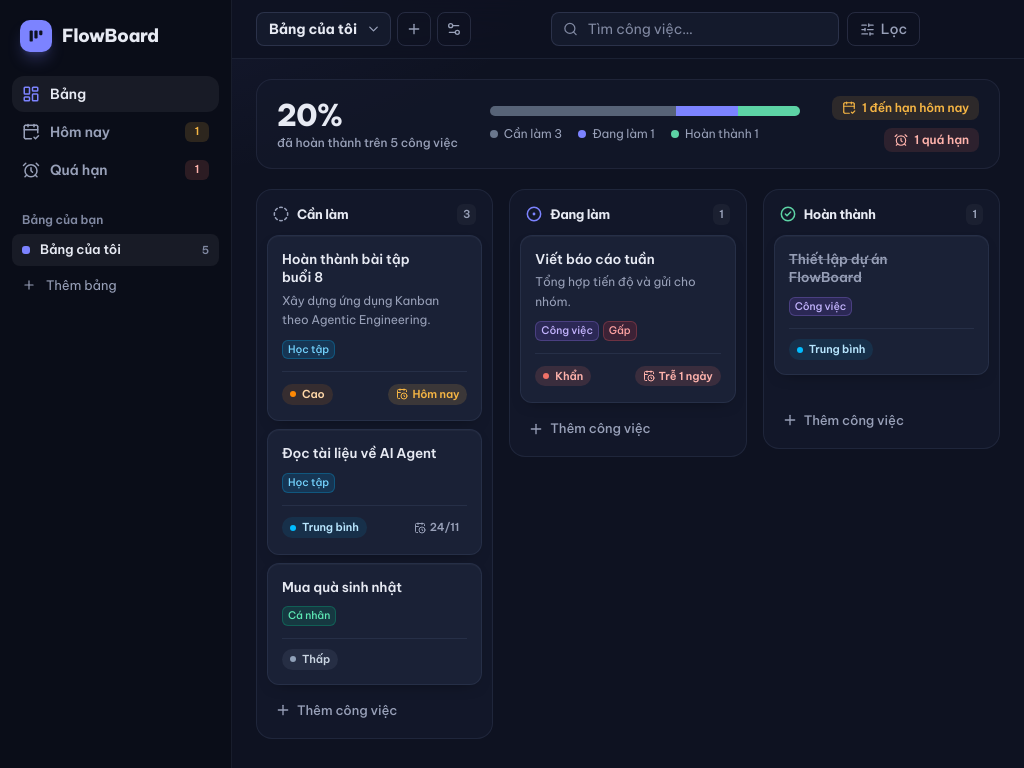
Test: Today view — progress and done group › tracks progress, lists finished tasks and links to overdue work
The image size is (1024, 768).
Click the button "Hôm nay 1": coordinates (116, 132) [12,114,219,150]
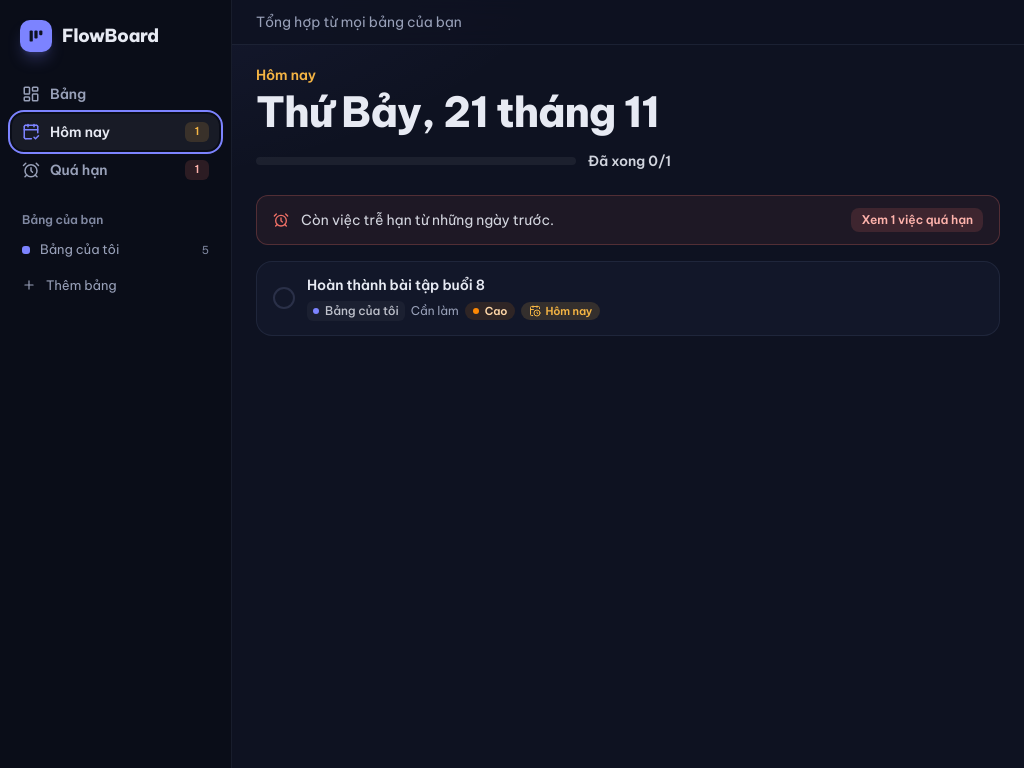
Now the text "Đã xong 0/1" is shown, box [588,151,671,171]
Click the button named "Đánh dấu hoàn thành Hoàn thành bài tập buổi 8": coordinates (284, 298) [273,287,295,309]
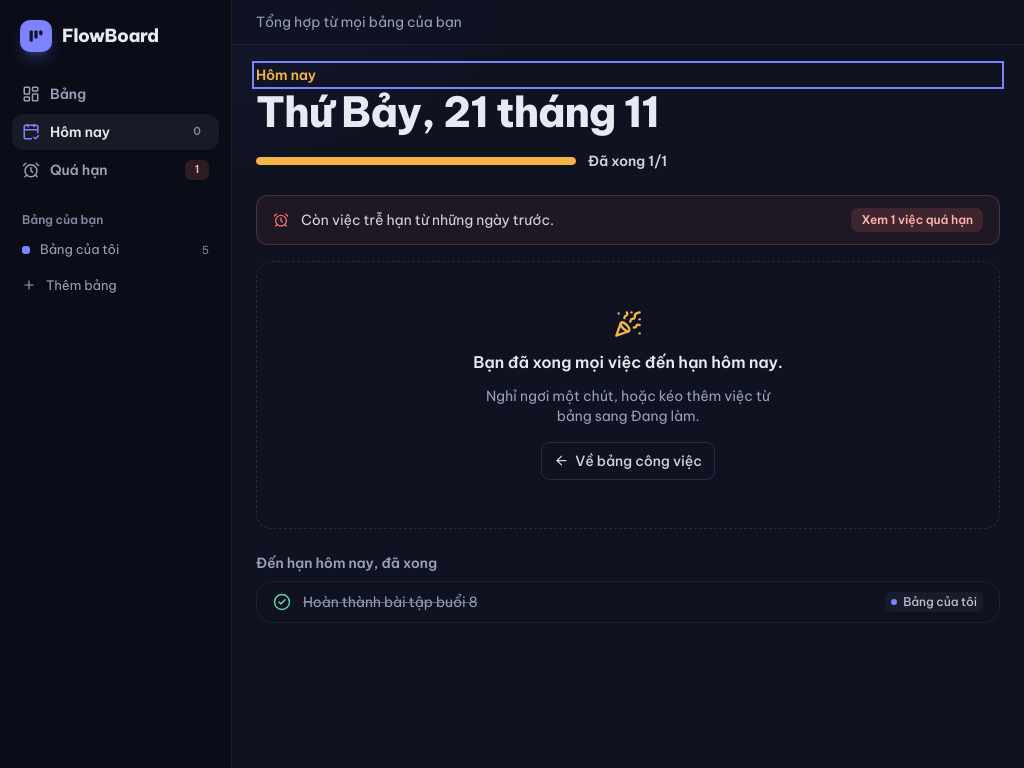
Expected: the button "Hoàn thành bài tập buổi 8" is shown, [303,592,873,612]
Now the text "Đã xong 1/1" is shown, box [588,151,667,171]
Now the text "Bạn đã xong mọi việc đến hạn hôm nay." is shown, box [473,350,783,374]
Click the button "Xem 1 việc quá hạn": coordinates (917, 220) [852,208,983,232]
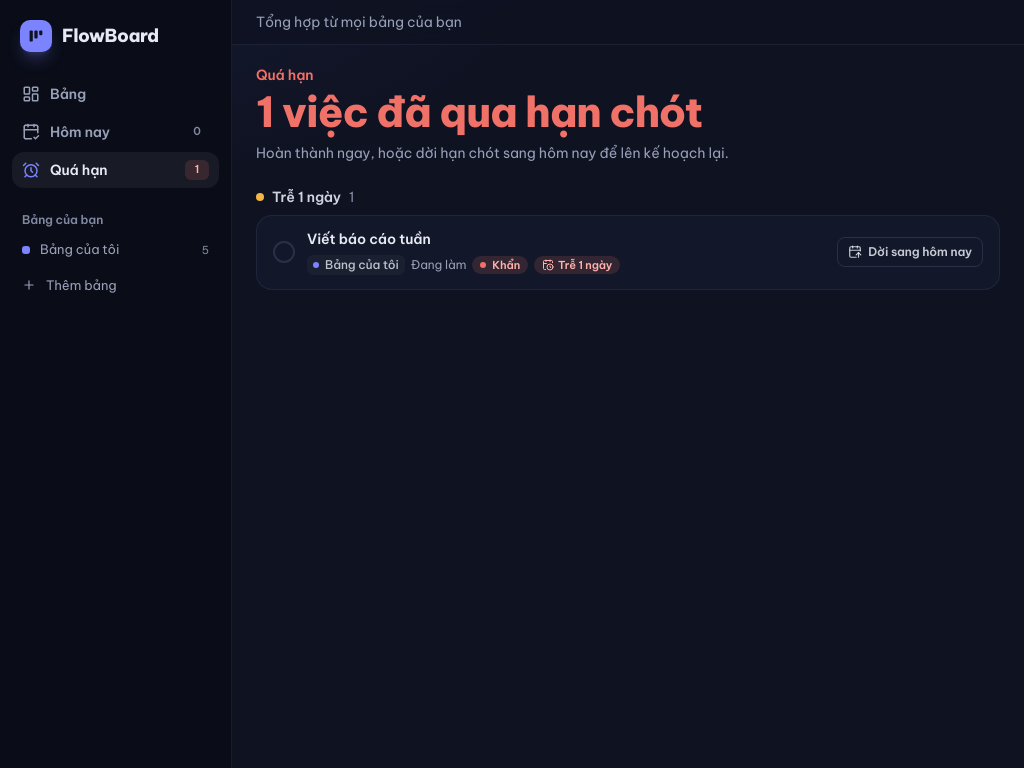
Now the heading "Quá hạn" is shown, box [256,66,314,84]
